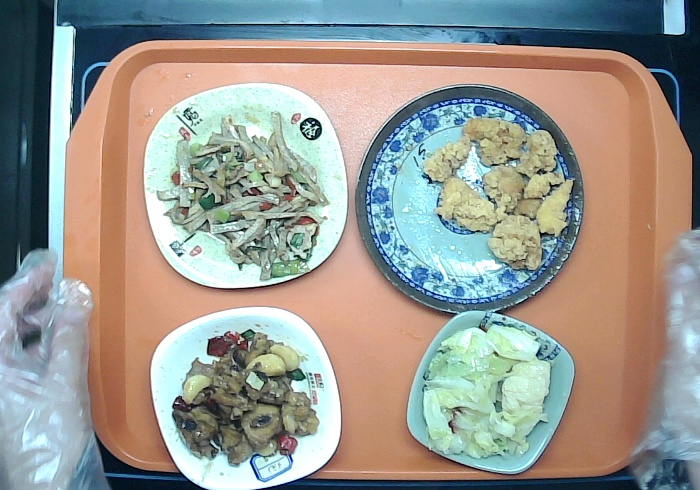NLDX-Bai_Se_Xiao_Fang_Die: (148, 304, 342, 490)
NLDX-Fu_Zi_Fang_Die: (141, 80, 349, 289)
NLDX-Qing_Hua_Xiao_Fang_Die: (404, 309, 577, 475)
NLDX-Qing_Hua_Yuan_Die: (353, 82, 587, 315)
